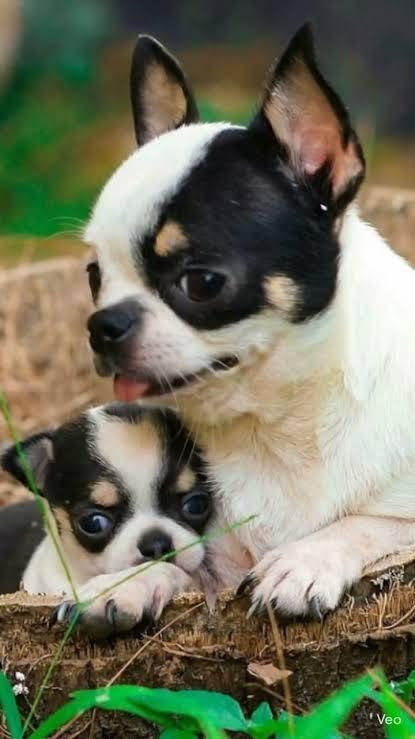adult_dog: (72, 19, 415, 624)
puppy-dog: (0, 401, 224, 637)
